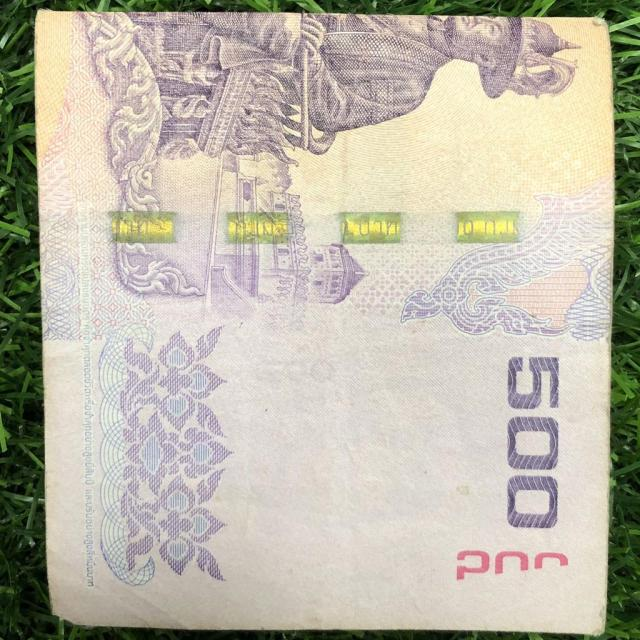THAI500: (33, 11, 618, 639)
